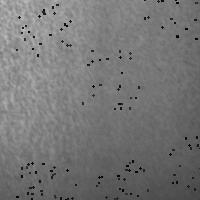pitted_surface: (2, 1, 196, 184), (82, 50, 138, 108), (16, 4, 69, 54), (90, 160, 147, 200), (16, 162, 75, 200), (140, 0, 195, 38), (169, 134, 200, 188)
